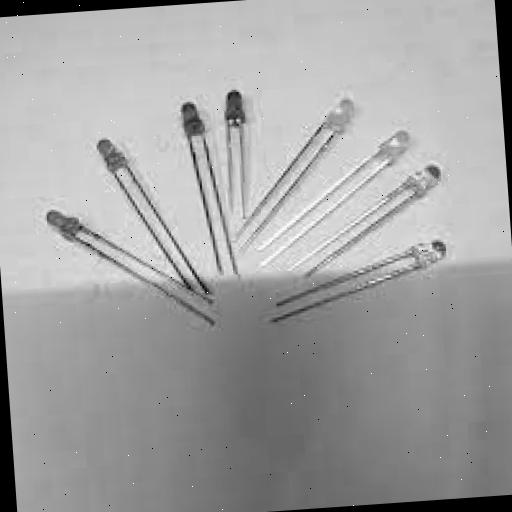LED: (18, 176, 258, 406), (82, 124, 215, 344), (163, 77, 237, 292), (350, 213, 474, 332), (262, 80, 370, 194), (376, 140, 474, 254), (207, 73, 264, 254), (342, 104, 418, 218)
